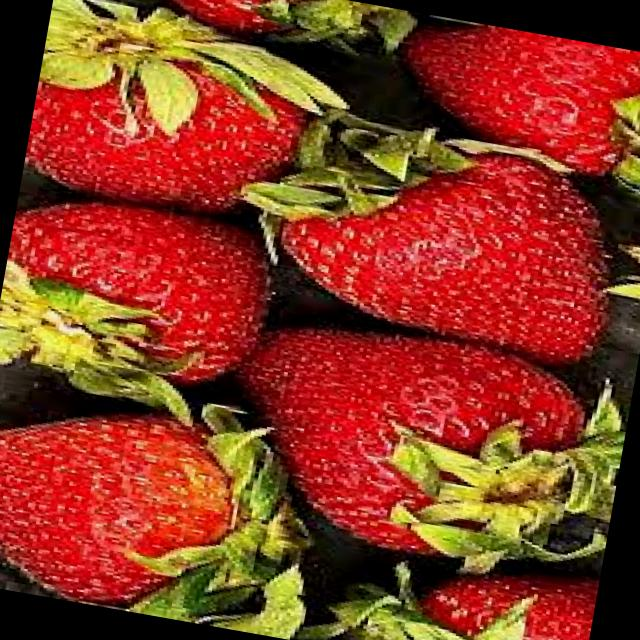strawberry: (228, 303, 628, 596), (254, 108, 636, 366), (0, 175, 310, 430), (19, 0, 340, 235), (0, 386, 292, 628), (408, 16, 640, 184)
